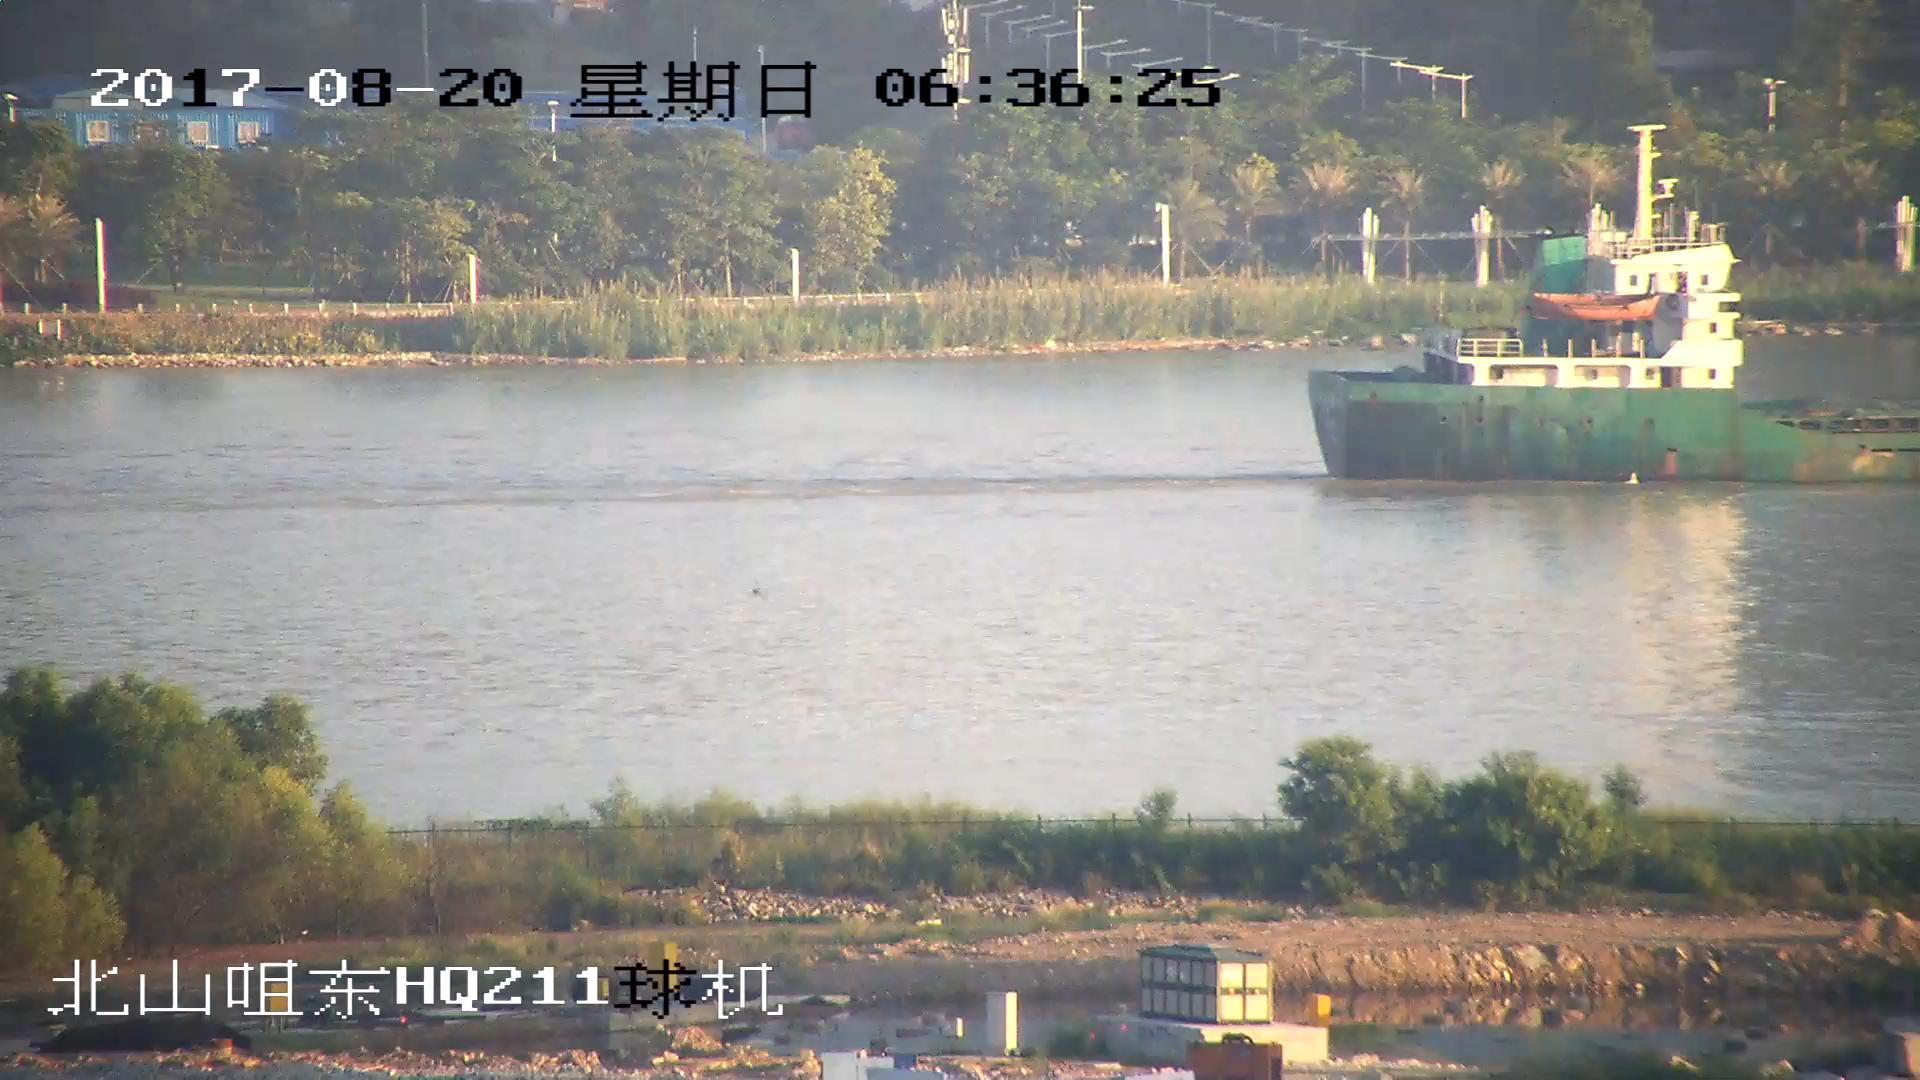Ship: (1309, 117, 1920, 488)
